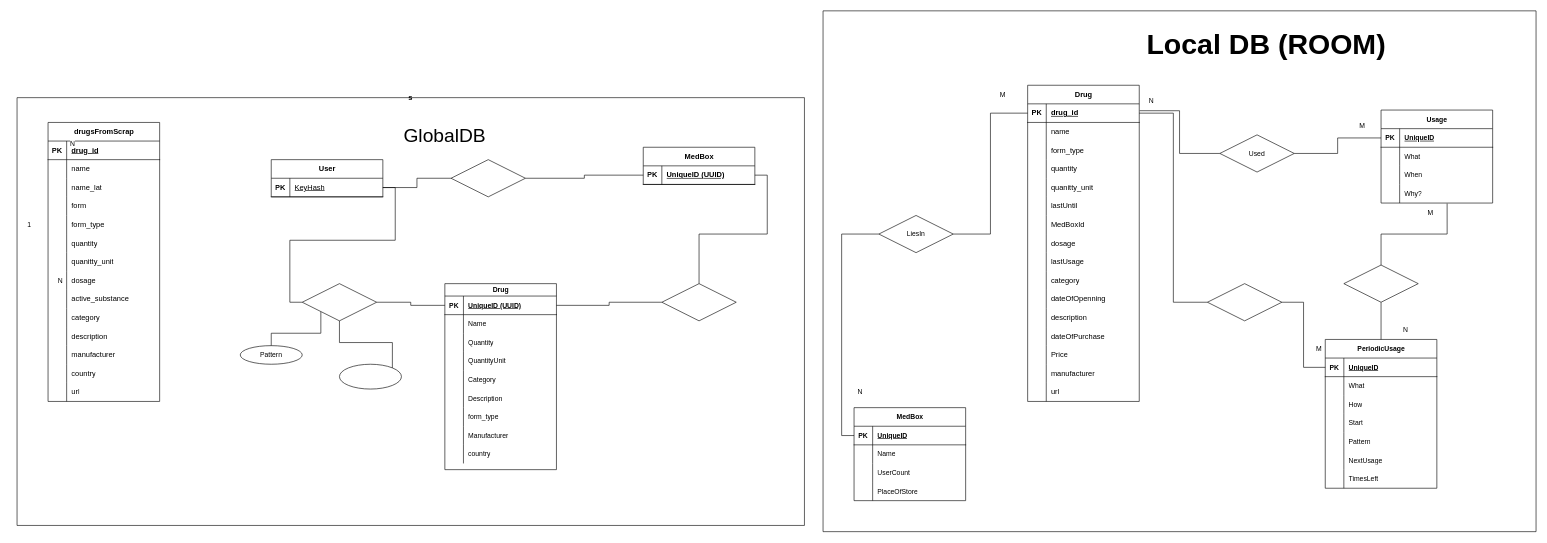
Some shapes in this 1547 by 543 pixel diagram are drawn without their labels. Here are the shapes that lost their labels. From the top down, the centre of each, then its label:
At (487,178): "Has acsess to".
At (339,302): "Uses".
At (698,302): "Lies in".
At (1244,302): "Using".
At (1380,283): "UsageHistory".
At (370,376): "LastUse".
